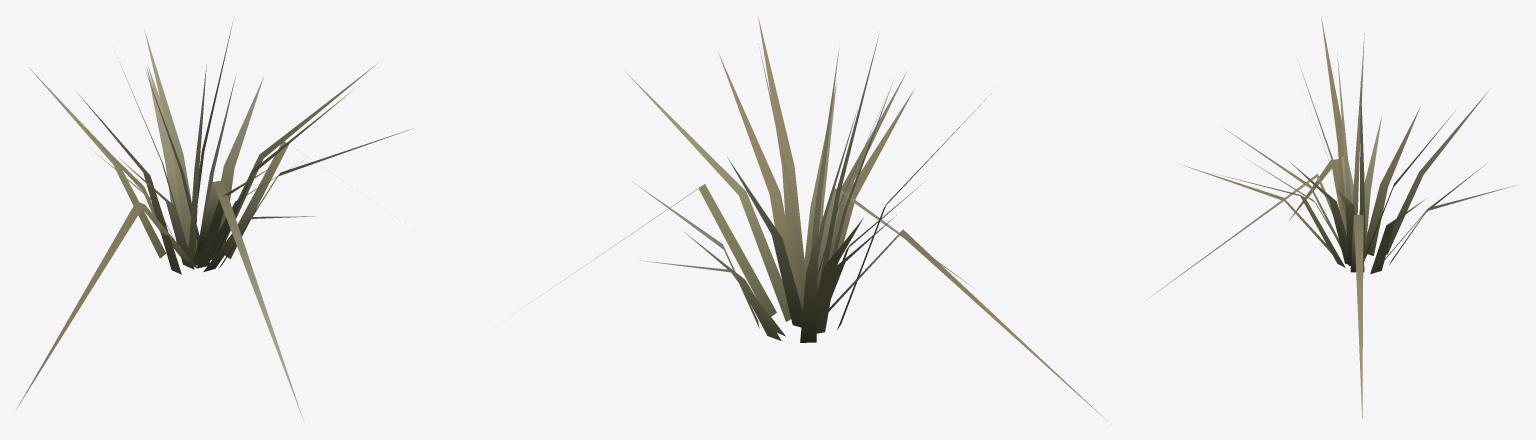
The model's file is gc_tall_grass.glb.
3 renders of one model, left to right at view 1: azimuth 30°, elevation 25°; view 2: azimuth 150°, elevation 25°; view 3: azimuth 270°, elevation 25°, orthographic. The views are drawn at different scales.
Parts seen in each view (by area): view 1: gc_tall_grass; view 2: gc_tall_grass; view 3: gc_tall_grass.
Part boxes in pixels (<box>): gc_tall_grass: <box>16,22,413,422</box>; gc_tall_grass: <box>541,17,1111,424</box>; gc_tall_grass: <box>1147,16,1515,418</box>.
Bounding box in the file's own units: 1.95 × 1.15 × 1.56.
